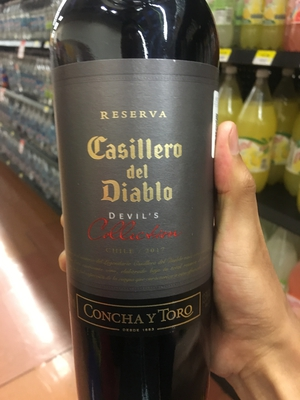casillero del diablo devils collection rojo: (48, 3, 219, 400)
